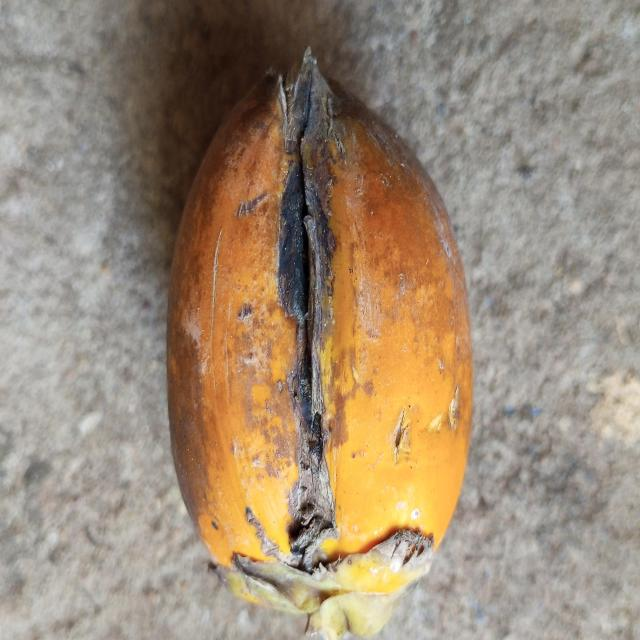damaged: (164, 51, 475, 640)
